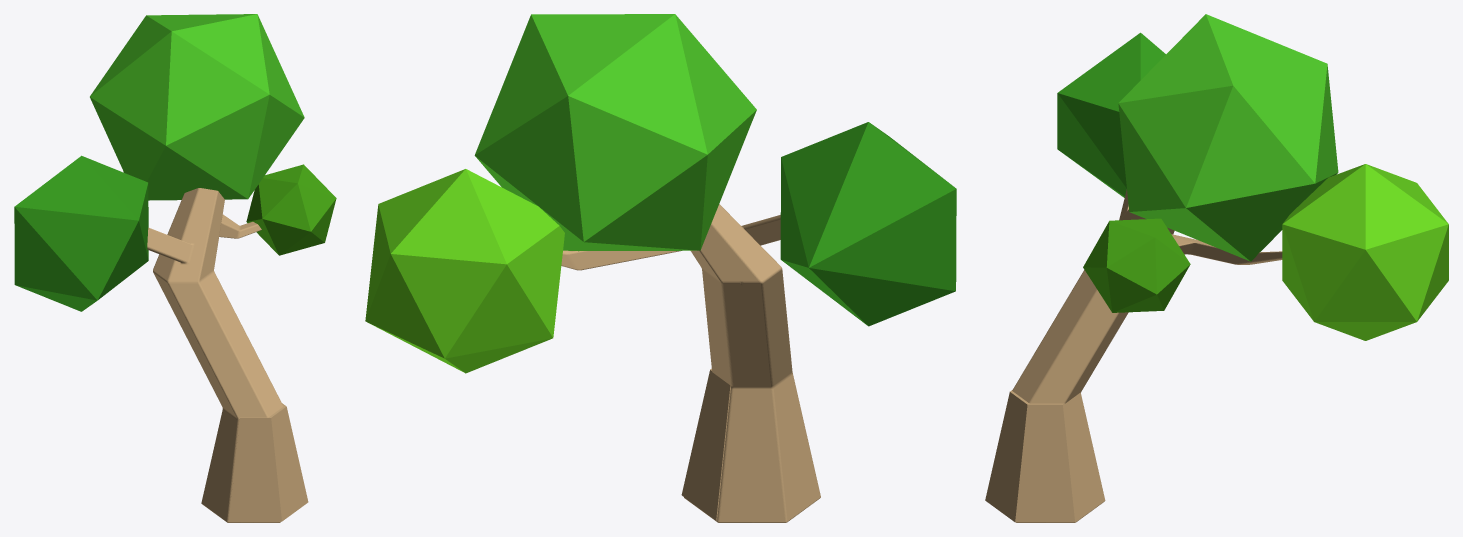
File: multiSphereTree.gltf
The picture shows the model from 3 angles, left to right: view 1: azimuth 30°, elevation 25°; view 2: azimuth 150°, elevation 25°; view 3: azimuth 270°, elevation 25°; orthographic projection. The views are drawn at different scales.
Parts seen in each view (by area): view 1: Icosphere.001_4, Cylinder.006_2, Icosphere_3, Cylinder_1, Icosphere.004_6; view 2: Icosphere.001_4, Icosphere.002_5, Icosphere_3, Cylinder.006_2, Cylinder_1; view 3: Icosphere.001_4, Icosphere.002_5, Cylinder_1, Cylinder.006_2, Icosphere_3, Icosphere.004_6.
Boxes of the visible parts, x1,y1,x2,y2 form: Icosphere.001_4: [90, 14, 304, 200]; Cylinder.006_2: [147, 188, 283, 522]; Icosphere_3: [14, 155, 148, 311]; Cylinder_1: [229, 403, 308, 521]; Icosphere.004_6: [246, 164, 336, 255]; Icosphere.001_4: [474, 14, 756, 251]; Icosphere.002_5: [365, 169, 564, 373]; Icosphere_3: [780, 122, 956, 326]; Cylinder.006_2: [561, 204, 820, 522]; Cylinder_1: [681, 368, 730, 520]; Icosphere.001_4: [1118, 14, 1338, 261]; Icosphere.002_5: [1282, 164, 1448, 340]; Cylinder_1: [985, 390, 1104, 522]; Cylinder.006_2: [1012, 189, 1282, 522]; Icosphere_3: [1057, 32, 1165, 197]; Icosphere.004_6: [1083, 218, 1190, 312].
Bounding box in the file's own units: 7.47 × 8.84 × 7.73.
